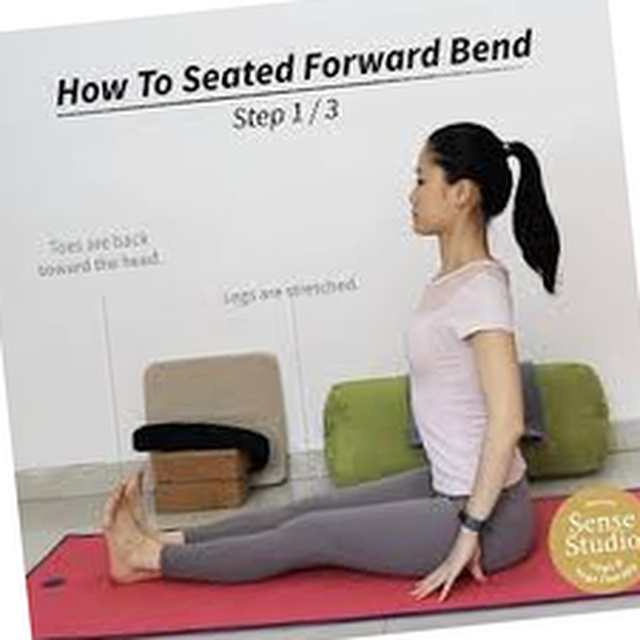Staff_Pose: (101, 122, 562, 601)
